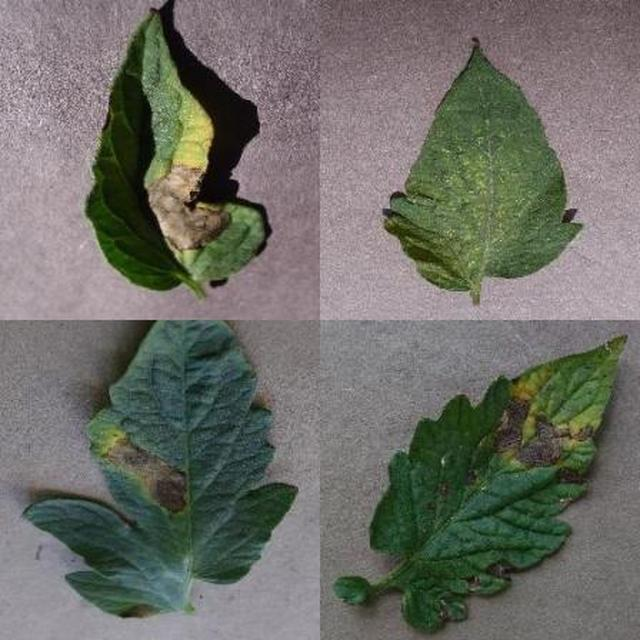Early Blight Leaf: (230, 214, 640, 640)
